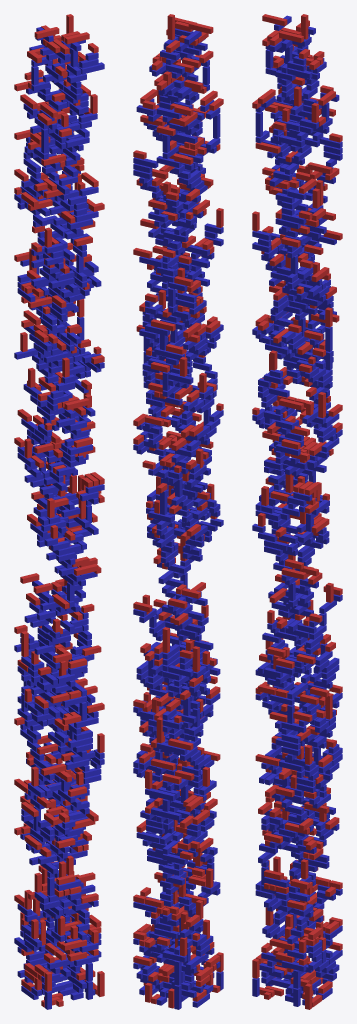
Rendered from fallen.obj.
3 views of the same model, side by side, from view 1: azimuth 30°, elevation 25°; view 2: azimuth 150°, elevation 25°; view 3: azimuth 330°, elevation 25° (orthographic).
Size of the model in its own units: 9.8 by 160 by 9.8.
